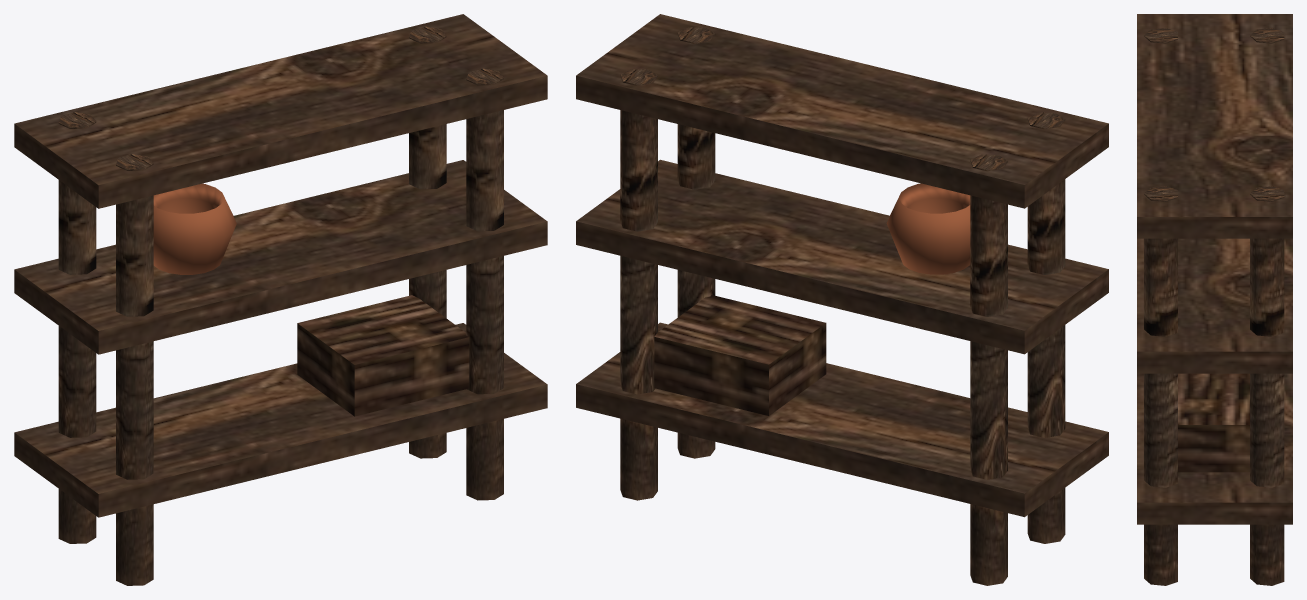
File: bookshelf.glb
3 renders of one model, left to right at view 1: azimuth 30°, elevation 25°; view 2: azimuth 150°, elevation 25°; view 3: azimuth 270°, elevation 25°, orthographic. The views are drawn at different scales.
Visible parts, largest first — view 1: part_0, part_2, part_1; view 2: part_0, part_2, part_1; view 3: part_0, part_2.
Part boxes in pixels (x1=…): part_0: x1=14, y1=14, x2=547, y2=585; part_2: x1=297, y1=295, x2=469, y2=416; part_1: x1=153, y1=183, x2=236, y2=274; part_0: x1=576, y1=14, x2=1108, y2=585; part_2: x1=654, y1=295, x2=826, y2=415; part_1: x1=886, y1=183, x2=970, y2=274; part_0: x1=1137, y1=14, x2=1292, y2=585; part_2: x1=1178, y1=373, x2=1249, y2=472.
Size of the model in its own units: 1.1 by 0.97 by 0.3562.
Materials: 3 (2 with a texture image).
